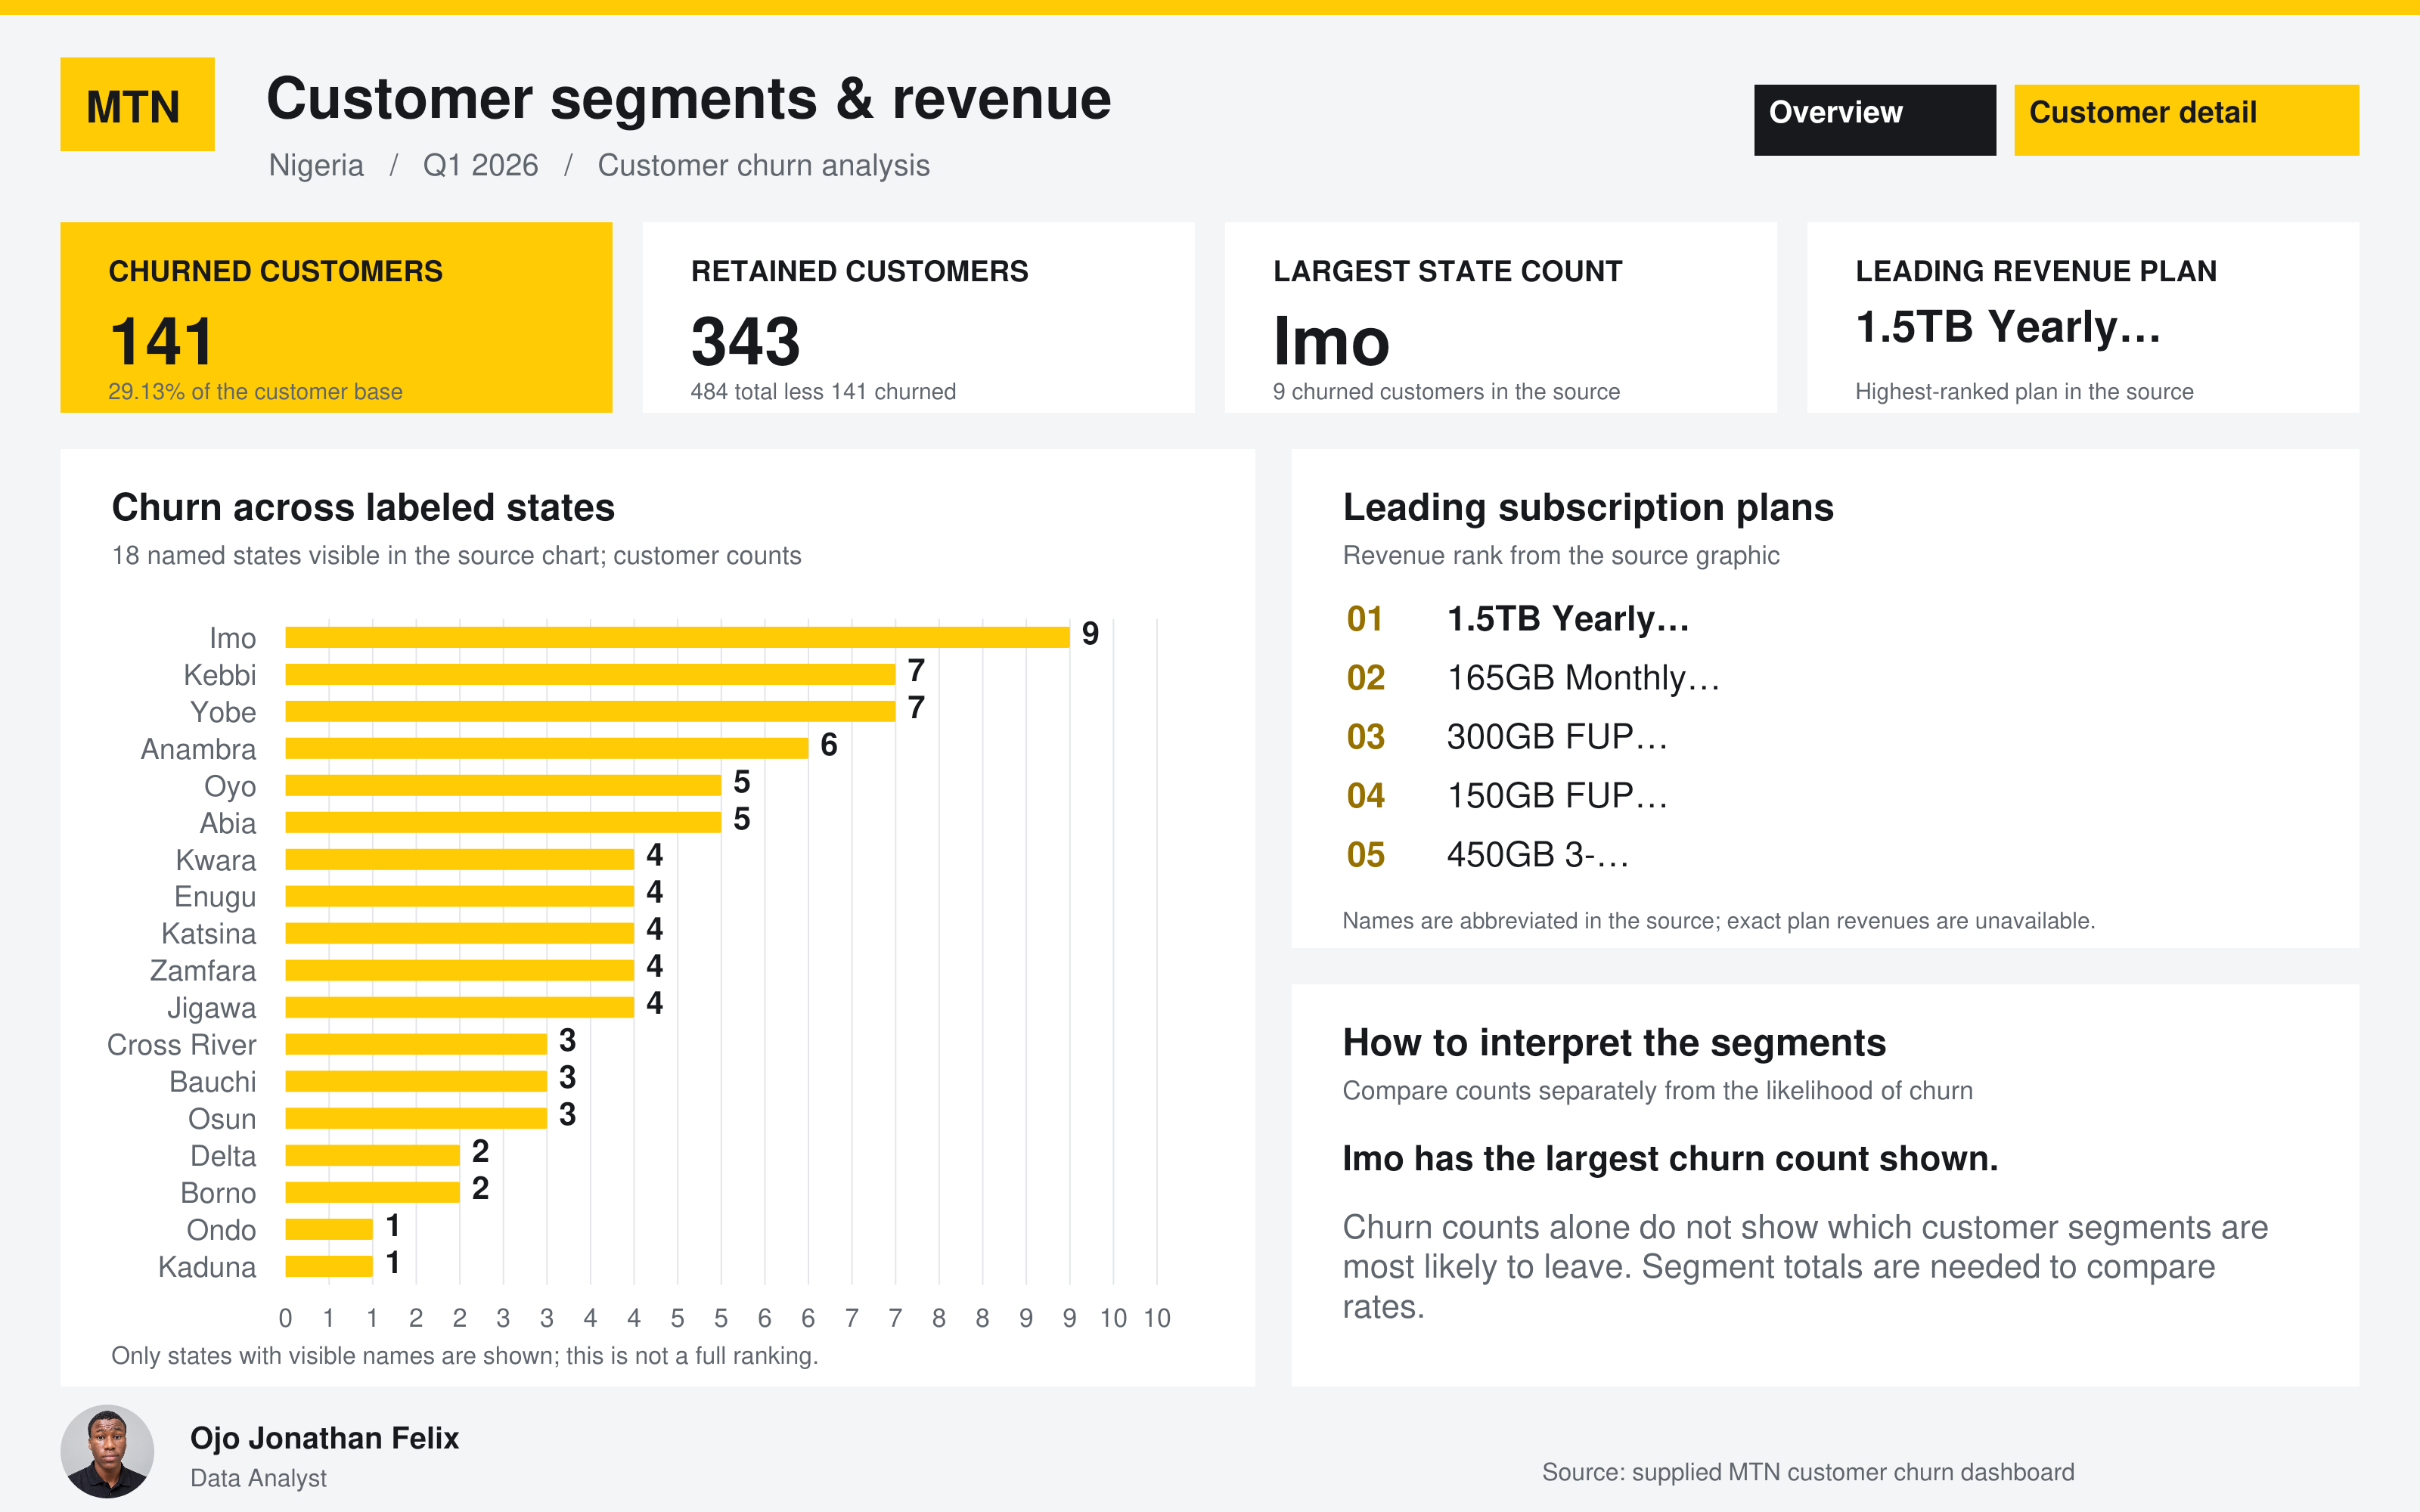

Layout of this report page (visuals, bound fields, positions):
{"tool":"powerbi","page":{"name":"Executive Overview","canvas":[1200,780],"ordinal":0},"visuals":[{"type":"shape","box":[0,0,176,780],"z":0},{"type":"textbox","box":[18,24,144,38],"z":1000},{"type":"actionButton","box":[12,144,152,44],"z":4000},{"type":"actionButton","box":[12,196,152,44],"z":5000},{"type":"actionButton","box":[12,248,152,44],"z":6000},{"type":"actionButton","box":[12,300,152,44],"z":7000},{"type":"shape","box":[18,426,140,1],"z":8000},{"type":"image","box":[18,450,88,88],"z":9000},{"type":"textbox","box":[18,549,150,34],"z":10000},{"type":"actionButton","box":[12,626,152,44],"z":12000},{"type":"textbox","box":[18,744,140,30],"z":14000},{"type":"textbox","box":[196,8,984,62],"z":15000},{"type":"textbox","box":[196,72,984,32],"z":16000},{"type":"shape","box":[196,218,984,76],"z":17000},{"type":"slicer","title":"Year","fields":{"Values":["DateTable.Year"]},"box":[208,222,126,68],"z":18000},{"type":"slicer","title":"Region","fields":{"Values":["Sample-Superstore.Region"]},"box":[348,222,178,68],"z":19000},{"type":"slicer","title":"Segment","fields":{"Values":["Sample-Superstore.Segment"]},"box":[540,222,220,68],"z":20000},{"type":"slicer","title":"Category","fields":{"Values":["Sample-Superstore.Category"]},"box":[774,222,228,68],"z":21000},{"type":"actionButton","box":[1020,236,148,42],"z":22000},{"type":"textbox","box":[196,748,984,30],"z":23000},{"type":"card","title":"Total sales","fields":{"Values":["Sample-Superstore.Total Sales"]},"box":[196,108,234,96],"z":24000},{"type":"card","title":"Total profit","fields":{"Values":["Sample-Superstore.Total Profit"]},"box":[446,108,234,96],"z":25000},{"type":"card","title":"Orders","fields":{"Values":["Sample-Superstore.Total Orders"]},"box":[696,108,234,96],"z":26000},{"type":"card","title":"Profit margin","fields":{"Values":["Sample-Superstore.Profit Margin %"]},"box":[946,108,234,96],"z":27000},{"type":"lineChart","title":"Monthly sales by year","fields":{"Category":["DateTable.Month"],"Y":["Sample-Superstore.Total Sales"],"Series":["DateTable.Year"]},"box":[196,308,484,242],"z":28000},{"type":"lineChart","title":"Monthly profit by year","fields":{"Category":["DateTable.Month"],"Y":["Sample-Superstore.Total Profit"],"Series":["DateTable.Year"]},"box":[696,308,484,242],"z":29000},{"type":"clusteredBarChart","title":"Sales by region","fields":{"Category":["Sample-Superstore.Region"],"Y":["Sample-Superstore.Total Sales"]},"box":[196,566,484,178],"z":30000},{"type":"clusteredBarChart","title":"Profit by category","fields":{"Category":["Sample-Superstore.Category"],"Y":["Sample-Superstore.Total Profit"]},"box":[696,566,484,178],"z":31000}]}

Visuals, with their boxes on the page's 1200x780 design canvas (x1, y1, x2, y2). These are canvas units, not pixel positions in the 2420x1512 screenshot, which may show the page scaled, cropped or inside an application window:
shape: (0, 0, 176, 780)
textbox: (18, 24, 162, 62)
actionButton: (12, 144, 164, 188)
actionButton: (12, 196, 164, 240)
actionButton: (12, 248, 164, 292)
actionButton: (12, 300, 164, 344)
shape: (18, 426, 158, 427)
image: (18, 450, 106, 538)
textbox: (18, 549, 168, 583)
actionButton: (12, 626, 164, 670)
textbox: (18, 744, 158, 774)
textbox: (196, 8, 1180, 70)
textbox: (196, 72, 1180, 104)
shape: (196, 218, 1180, 294)
"Year" slicer: (208, 222, 334, 290)
"Region" slicer: (348, 222, 526, 290)
"Segment" slicer: (540, 222, 760, 290)
"Category" slicer: (774, 222, 1002, 290)
actionButton: (1020, 236, 1168, 278)
textbox: (196, 748, 1180, 778)
"Total sales" card: (196, 108, 430, 204)
"Total profit" card: (446, 108, 680, 204)
"Orders" card: (696, 108, 930, 204)
"Profit margin" card: (946, 108, 1180, 204)
"Monthly sales by year" lineChart: (196, 308, 680, 550)
"Monthly profit by year" lineChart: (696, 308, 1180, 550)
"Sales by region" clusteredBarChart: (196, 566, 680, 744)
"Profit by category" clusteredBarChart: (696, 566, 1180, 744)
